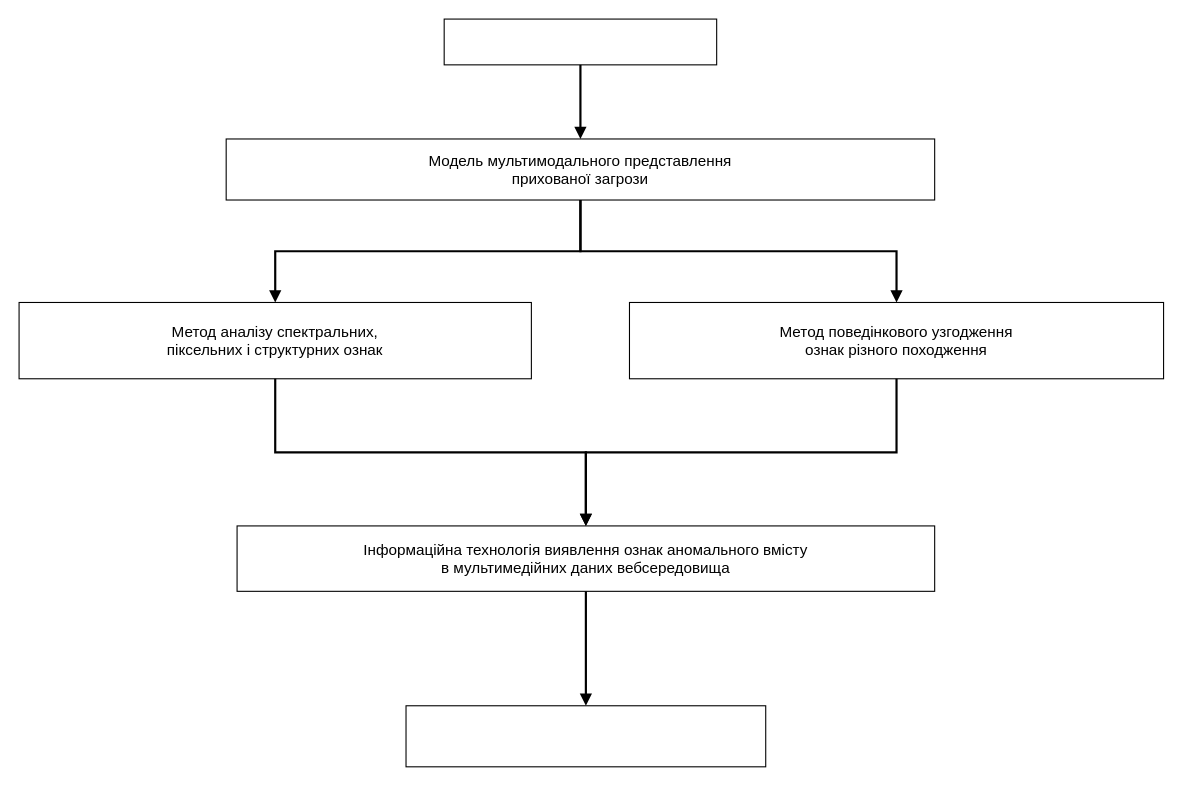
This 1183x786 diagram has some shape labels left out. The shapes that lost their labels are listed below. From the top down, each one's centre as x and y in pixels, then its label:
pixel 580 41: Обмеження відомих підходів
pixel 585 736: Експериментальне оцінювання та визначення доказових меж
